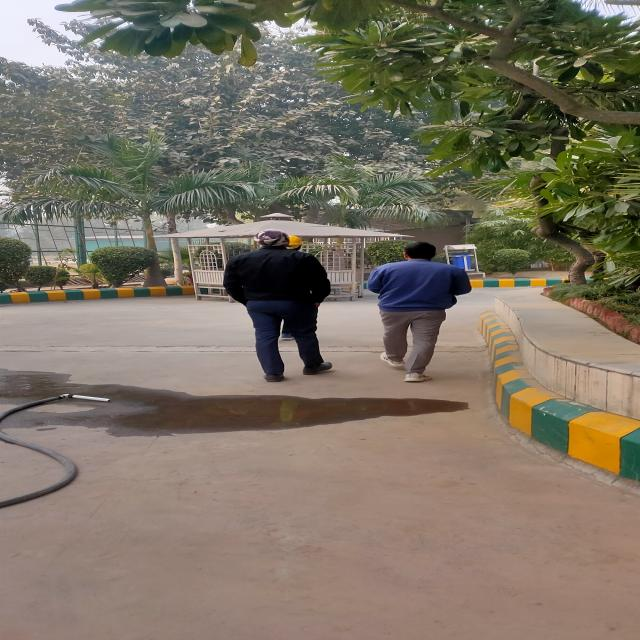unsafe: (223, 229, 334, 381), (366, 242, 474, 383)
